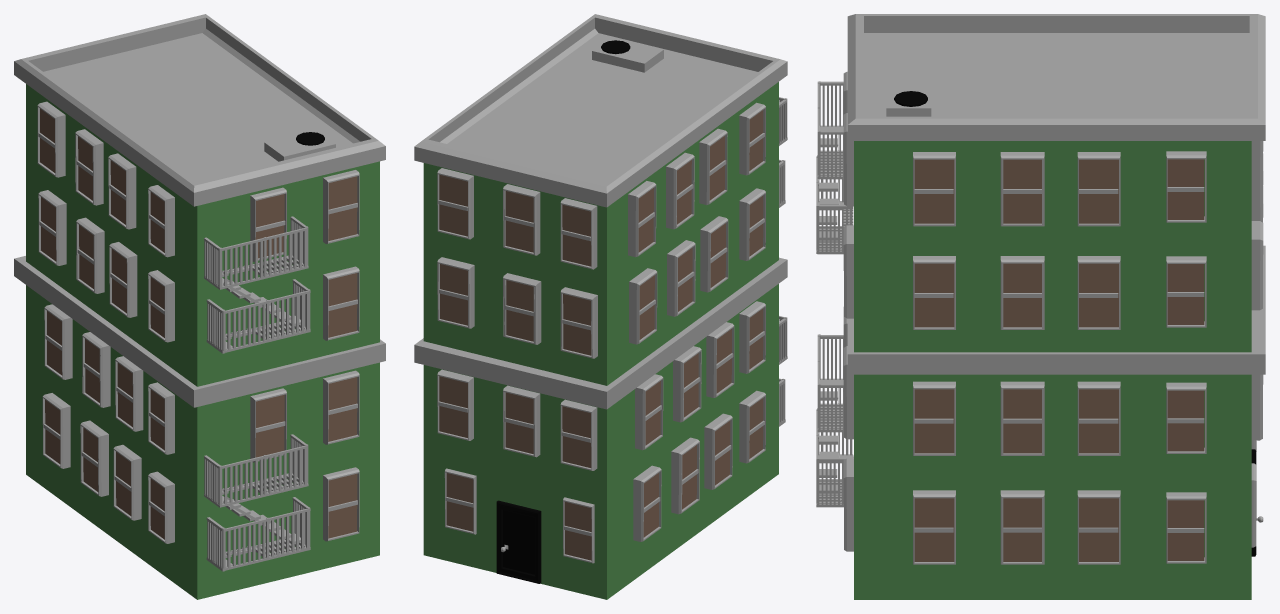
File: Apartments2.fbx
3 renders of one model, left to right at view 1: azimuth 30°, elevation 25°; view 2: azimuth 150°, elevation 25°; view 3: azimuth 270°, elevation 25°, orthographic. The views are drawn at different scales.
Visible parts, largest first — view 1: pCube237, pCube239, pCube236, polySurface397, polySurface398, polySurface390, polySurface396, polySurface104, polySurface347, pCube240, pCube265, polySurface400 (+10 smaller); view 2: pCube237, pCube239, pCube236, polySurface393, polySurface392, polySurface394, polySurface390, polySurface397, polySurface398, polySurface396, polySurface413, pSphere14 (+7 smaller); view 3: pCube237, pCube239, pCube236, polySurface391, polySurface387, polySurface395, polySurface389, polySurface404, polySurface407, polySurface405, polySurface406, polySurface104 (+11 smaller).
Part boxes in pixels (left/top/right/bottom): pCube237: left=26, top=84, right=379, bottom=599; pCube239: left=14, top=14, right=385, bottom=206; pCube236: left=14, top=256, right=385, bottom=407; polySurface397: left=37, top=101, right=136, bottom=229; polySurface398: left=38, top=190, right=137, bottom=317; polySurface390: left=42, top=393, right=141, bottom=520; polySurface396: left=44, top=304, right=143, bottom=431; polySurface104: left=206, top=279, right=310, bottom=353; polySurface347: left=206, top=497, right=310, bottom=571; pCube240: left=204, top=216, right=308, bottom=289; pCube265: left=204, top=434, right=308, bottom=507; polySurface400: left=323, top=370, right=359, bottom=444; pCube237: left=423, top=82, right=778, bottom=599; pCube239: left=414, top=14, right=787, bottom=207; pCube236: left=414, top=257, right=787, bottom=409; polySurface393: left=437, top=168, right=597, bottom=269; polySurface392: left=437, top=369, right=597, bottom=470; polySurface394: left=437, top=257, right=596, bottom=358; polySurface390: left=633, top=413, right=732, bottom=541; polySurface397: left=628, top=128, right=727, bottom=257; polySurface398: left=629, top=216, right=728, bottom=344; polySurface396: left=635, top=322, right=734, bottom=450; polySurface413: left=438, top=257, right=597, bottom=358; pSphere14: left=496, top=500, right=541, bottom=583; pCube237: left=854, top=141, right=1251, bottom=599; pCube239: left=847, top=14, right=1265, bottom=140; pCube236: left=847, top=245, right=1265, bottom=374; polySurface391: left=913, top=490, right=1120, bottom=564; polySurface387: left=913, top=152, right=1120, bottom=226; polySurface395: left=913, top=381, right=1120, bottom=455; polySurface389: left=913, top=256, right=1120, bottom=329; polySurface404: left=1166, top=492, right=1206, bottom=563; polySurface407: left=1166, top=151, right=1206, bottom=222; polySurface405: left=1166, top=256, right=1206, bottom=327; polySurface406: left=1166, top=382, right=1206, bottom=453; polySurface104: left=816, top=126, right=853, bottom=254.
Bounding box in the file's own units: 28.43 × 55.8 × 47.24.
